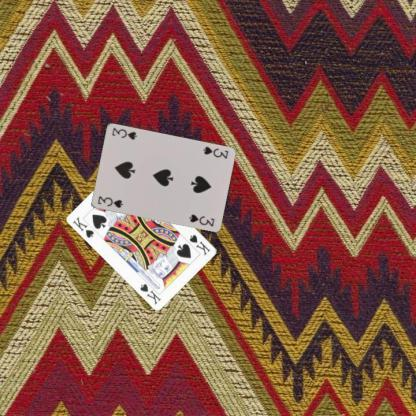3s: (201, 144, 230, 160), (95, 194, 124, 209)
Ks: (70, 214, 96, 239), (187, 232, 212, 257)
